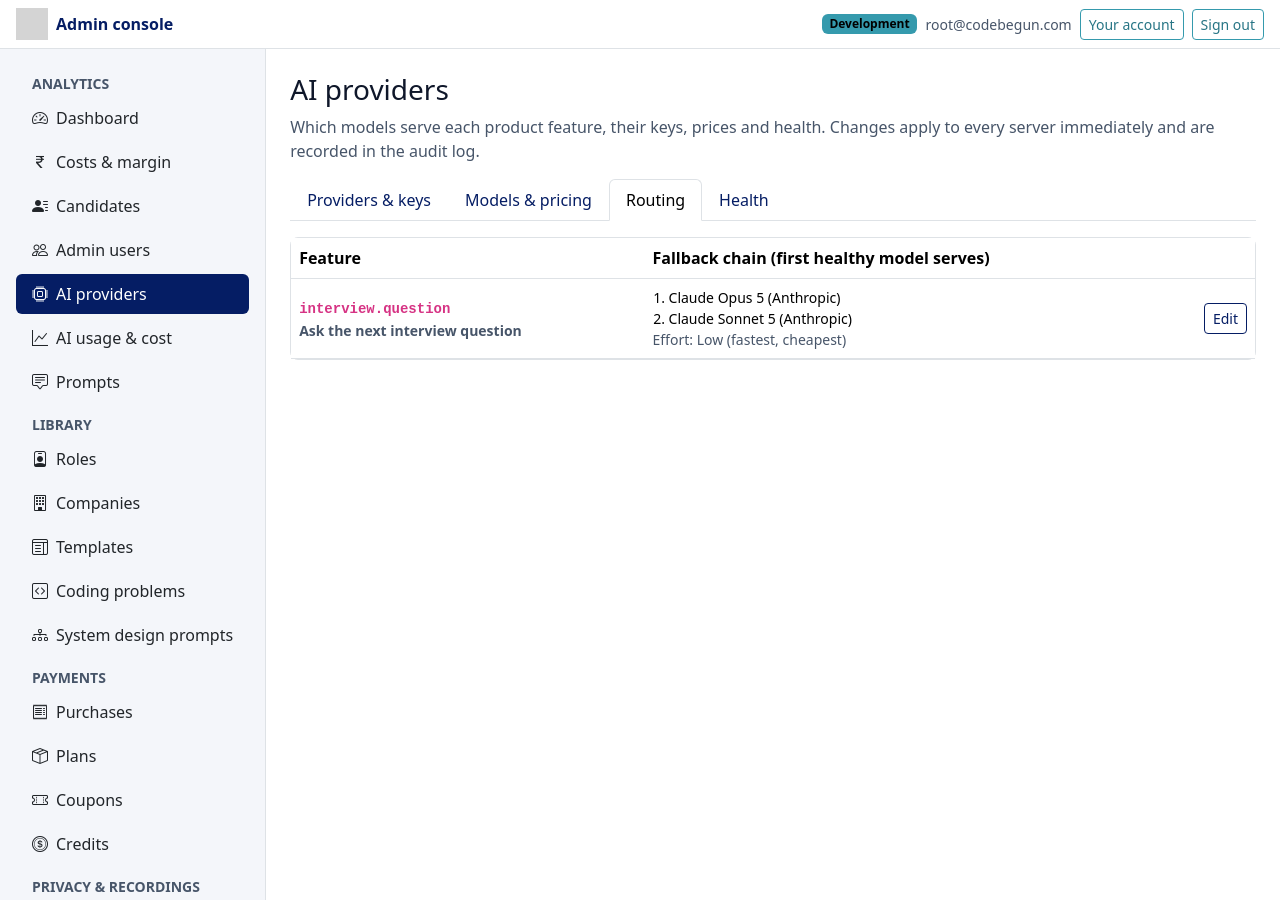
Test case: routing › reorders a fallback chain and saves it with priorities
The image size is (1280, 900).
Click the button "Edit": click(1225, 318) [1204,303,1247,334]
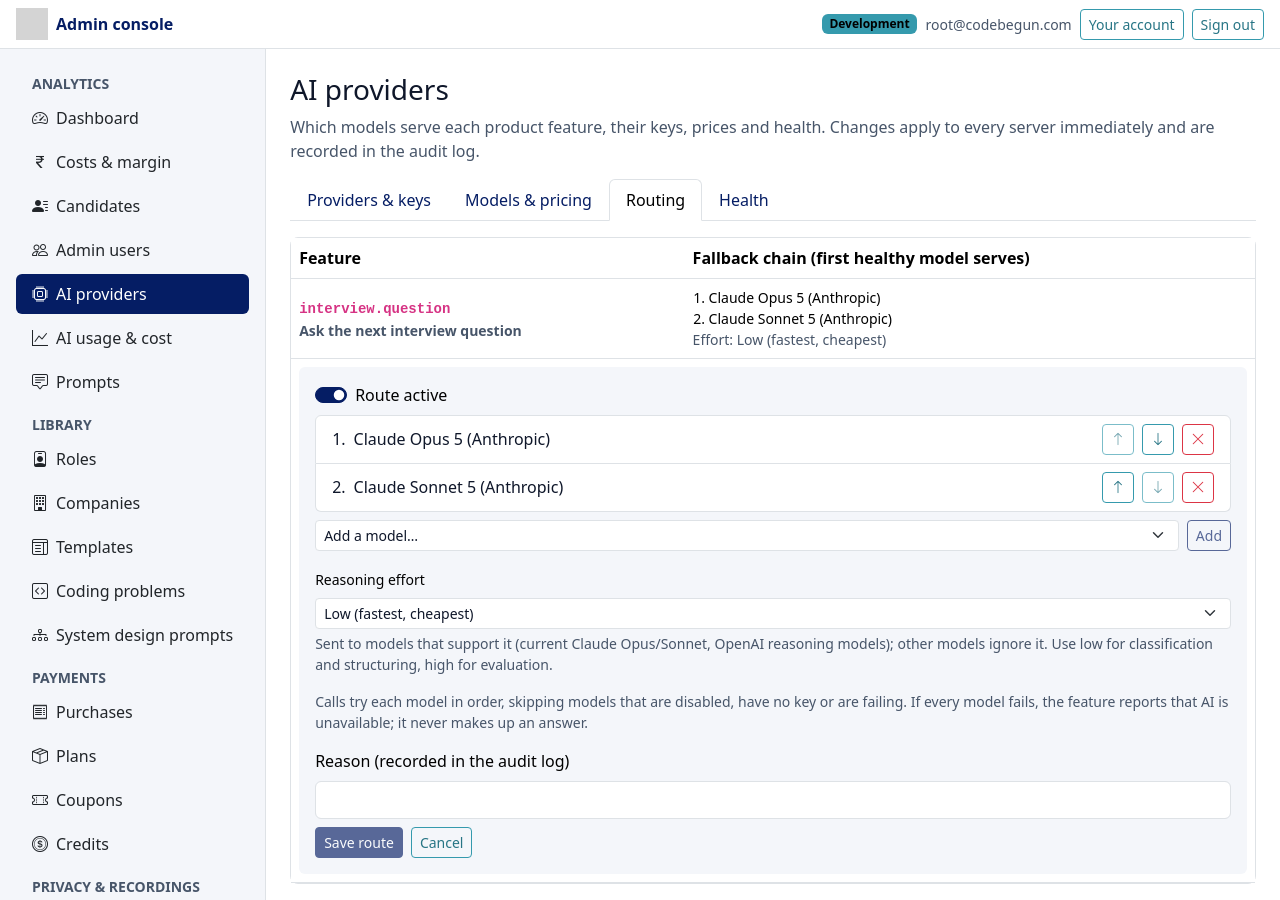
Click the button named "Move Claude Sonnet 5 (Anthropic) up": click(1118, 487) [1102,472,1134,503]
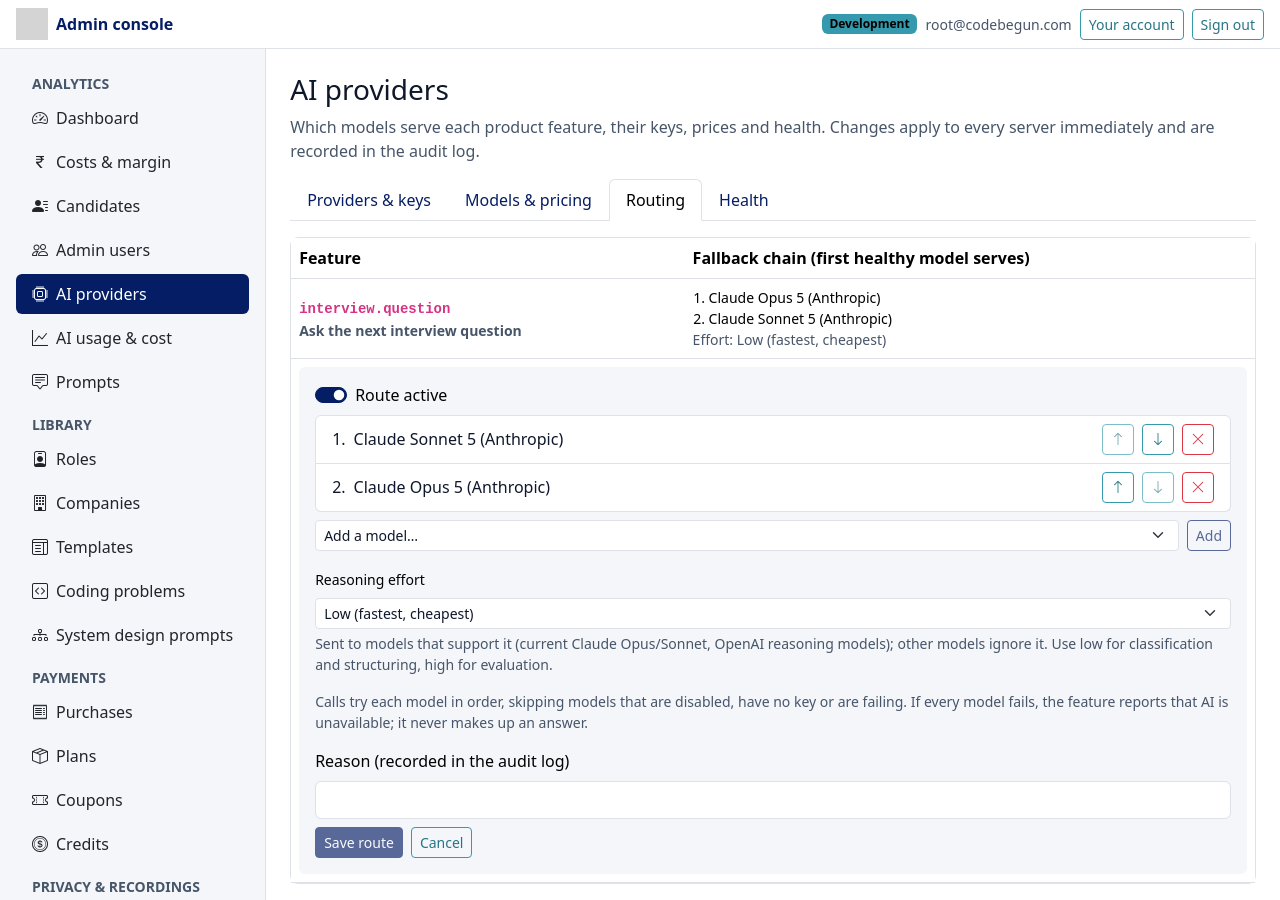
Check: the dropdown labelled "Reasoning effort" shows "Low (fastest, cheapest)"
Select "Medium" in the dropdown labelled "Reasoning effort": (773, 613) [315,598,1231,629]
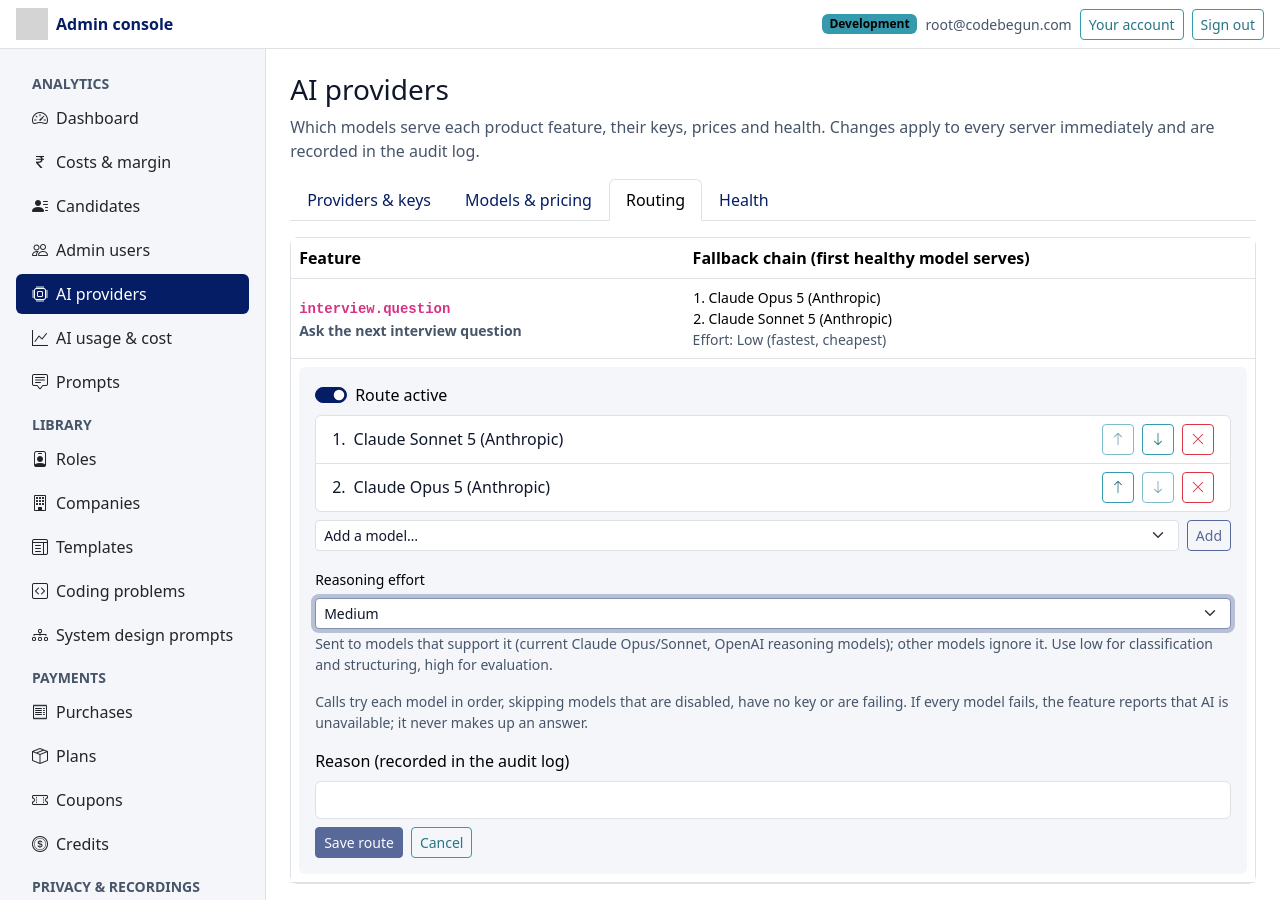
In the field labelled "Reason (recorded in the audit log)": (773, 800) [315,781,1231,819], type "Faster first answer"
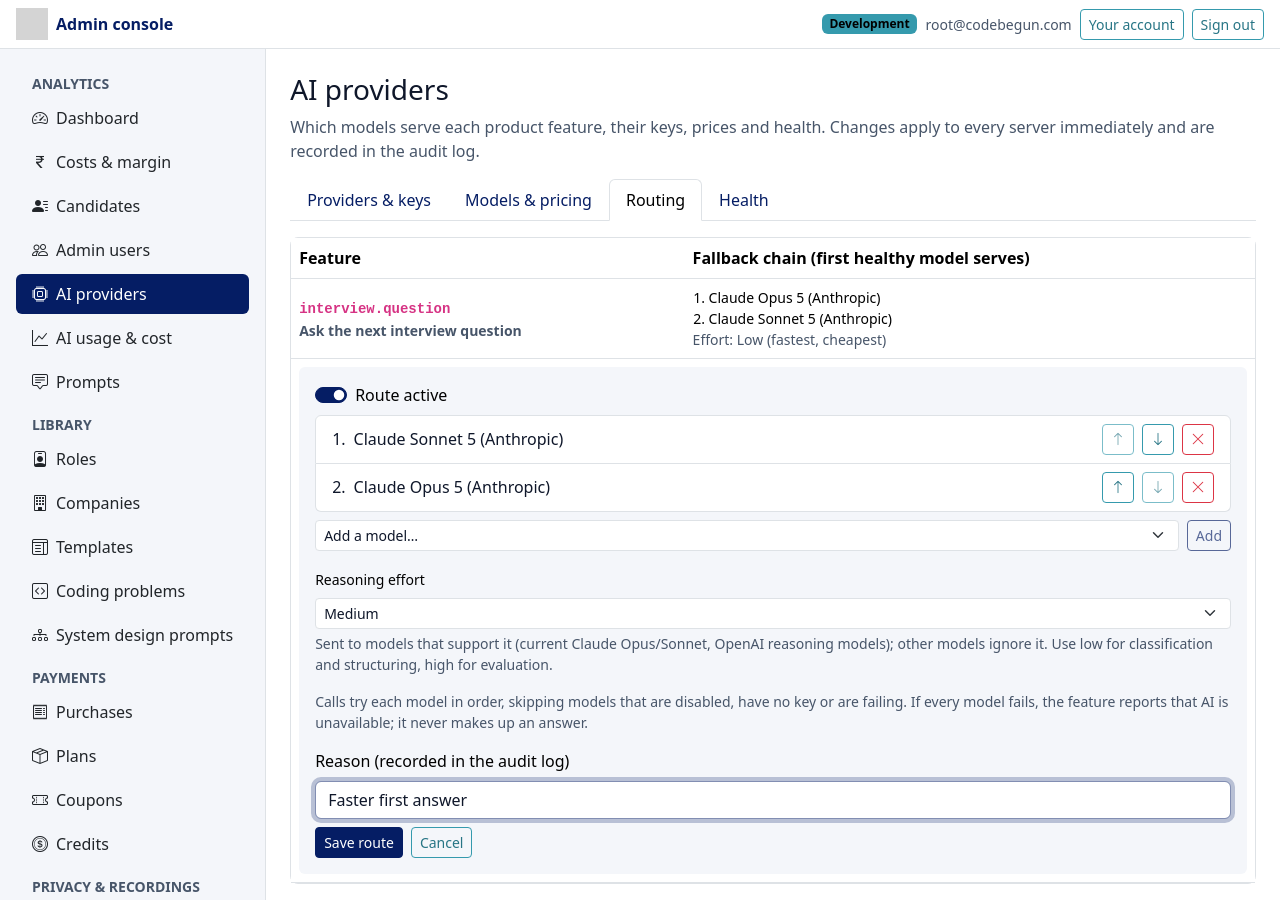
Click the button "Save route": click(359, 842) [315,827,403,858]
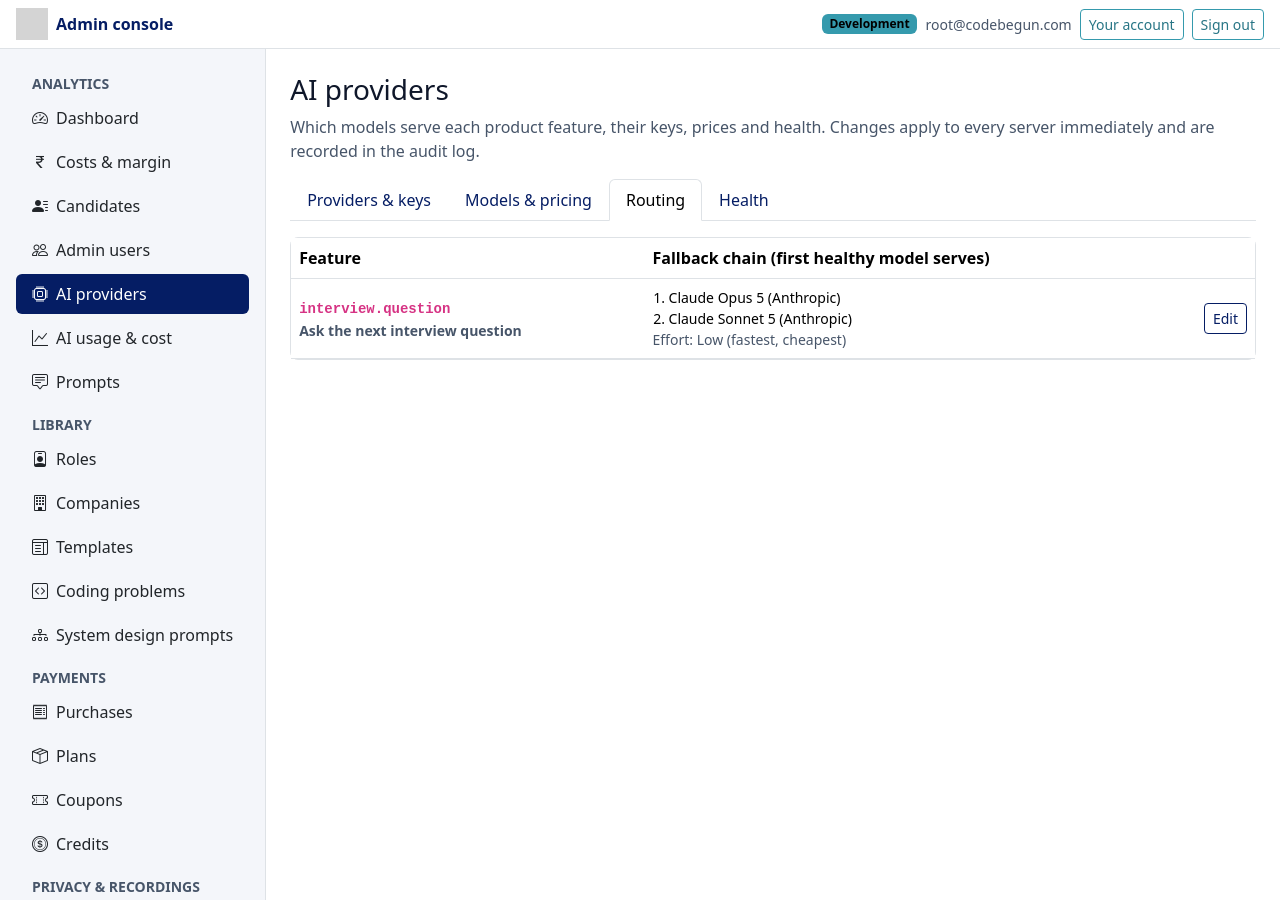
Check: the button "Edit" is shown, box [1204,303,1247,334]
